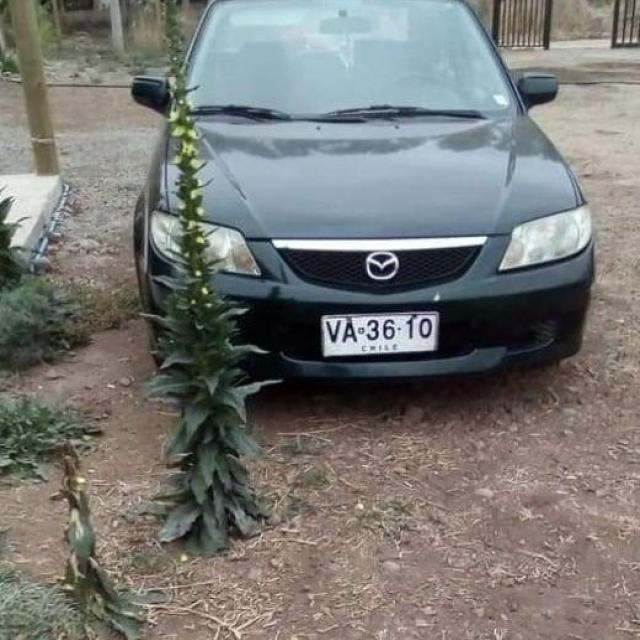patente: (319, 309, 439, 358)
